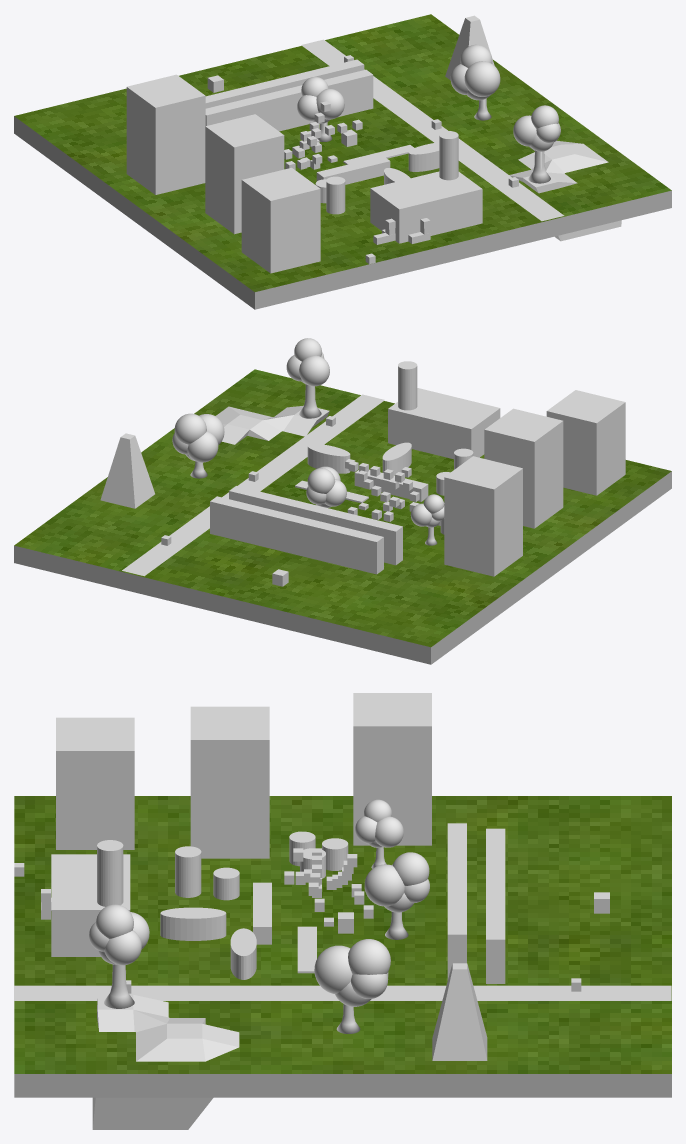
File: map_3.dae
The picture shows the model from 3 angles, top to bottom: view 1: azimuth 30°, elevation 25°; view 2: azimuth 150°, elevation 25°; view 3: azimuth 270°, elevation 25°; orthographic projection. The views are drawn at different scales.
Parts seen in each view (by area): view 1: Cube_031, Cube, Cube_008, Cube_010, Cube_009, Cube_011, Plane_001, Cube_026, Cube_012, Cylinder_012, Cube_025, Cylinder_017 (+8 smaller); view 2: Cube_031, Cube, Cube_008, Cube_025, Cube_009, Cube_010, Cube_011, Plane_001, Cube_026, Cube_007, Cube_012, Cylinder_012 (+7 smaller); view 3: Cube_031, Cube, Cube_009, Cube_008, Cube_010, Cube_012, Plane_001, Cube_011, Cube_007, Cylinder_012, Cube_025, Cylinder_007 (+12 smaller).
Part boxes in pixels (box(x1,y1,x2,y2)): Cube_031: box(14, 14, 671, 291); Cube: box(14, 116, 671, 309); Cube_008: box(126, 74, 205, 194); Cube_010: box(241, 167, 320, 273); Cube_009: box(205, 114, 284, 234); Cube_011: box(370, 171, 482, 243); Plane_001: box(301, 39, 564, 221); Cube_026: box(205, 69, 373, 131); Cube_012: box(509, 140, 621, 241); Cylinder_012: box(450, 44, 500, 100); Cube_025: box(205, 59, 364, 108); Cylinder_017: box(513, 105, 560, 151); Cube_031: box(14, 369, 671, 647); Cube: box(14, 471, 671, 664); Cube_008: box(444, 456, 522, 576); Cube_025: box(210, 496, 383, 574); Cube_009: box(484, 408, 563, 528); Cube_010: box(546, 390, 625, 495); Cube_011: box(388, 388, 500, 459); Plane_001: box(122, 394, 384, 576); Cube_026: box(229, 486, 402, 565); Cube_007: box(100, 433, 154, 508); Cube_012: box(215, 405, 329, 444); Cylinder_012: box(172, 413, 224, 462); Cube_031: box(14, 796, 671, 1073); Cube: box(14, 1074, 671, 1097); Cube_009: box(190, 706, 269, 858); Cube_008: box(353, 693, 431, 845); Cube_010: box(56, 717, 134, 849); Cube_012: box(92, 994, 239, 1129); Plane_001: box(14, 985, 671, 1000); Cube_011: box(51, 854, 130, 956); Cube_007: box(432, 963, 487, 1060); Cylinder_012: box(314, 939, 390, 1006); Cube_025: box(486, 828, 505, 983); Cylinder_007: box(364, 852, 429, 912).
Size of the model in its own units: 50 by 50.02 by 15.95.
